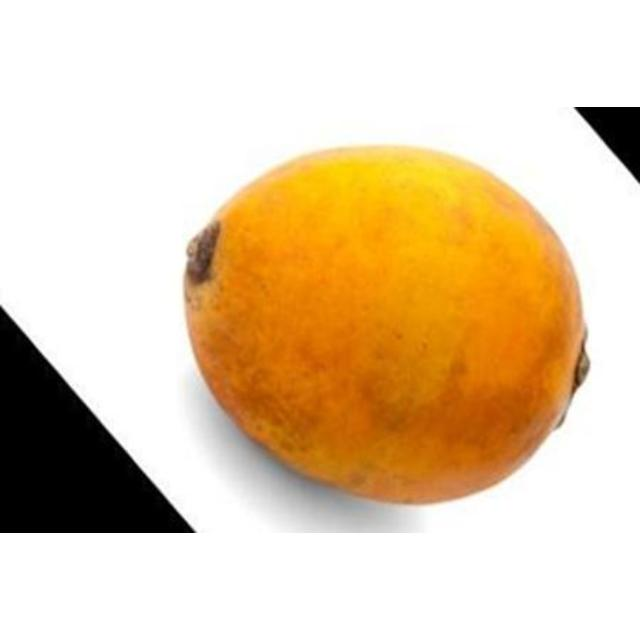good: (185, 147, 585, 501)
